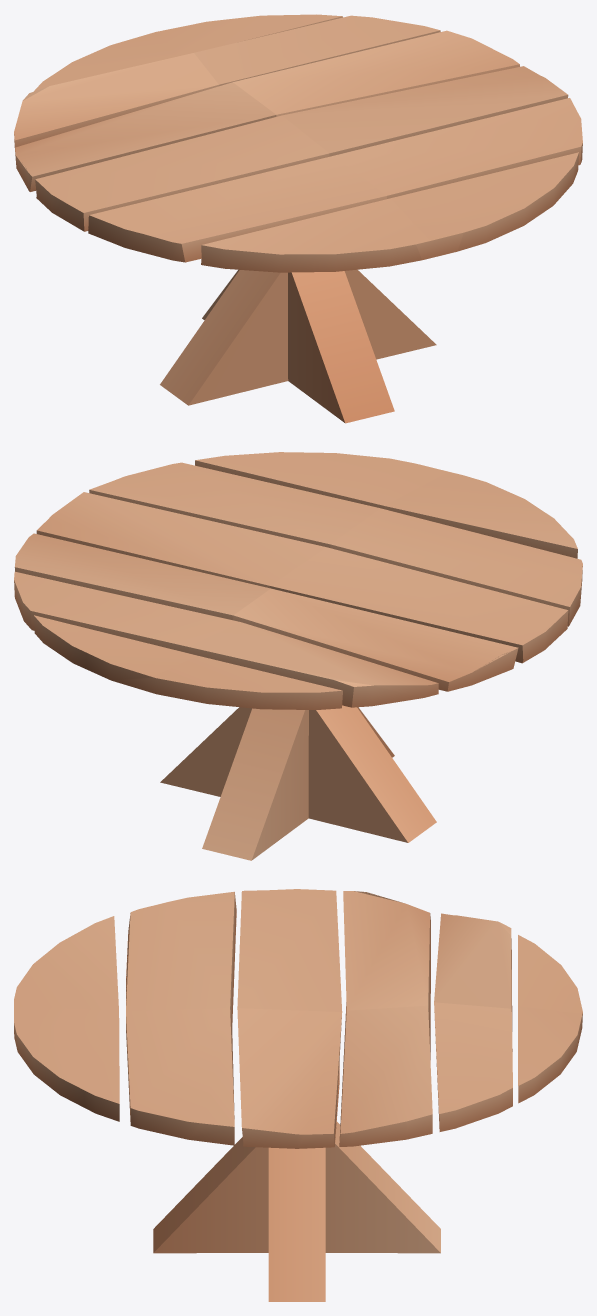
Rendered from Roundtable.fbx.
3 renders of one model, top to bottom at view 1: azimuth 30°, elevation 25°; view 2: azimuth 150°, elevation 25°; view 3: azimuth 270°, elevation 25°, orthographic.
Parts seen in each view (by area): view 1: Roundtable.001; view 2: Roundtable.001; view 3: Roundtable.001.
Part boxes in pixels (bbox=[...]): Roundtable.001: bbox=[14, 14, 582, 423]; Roundtable.001: bbox=[14, 452, 582, 860]; Roundtable.001: bbox=[14, 889, 582, 1301].
Size of the model in its own units: 91.69 by 41.74 by 91.26.
